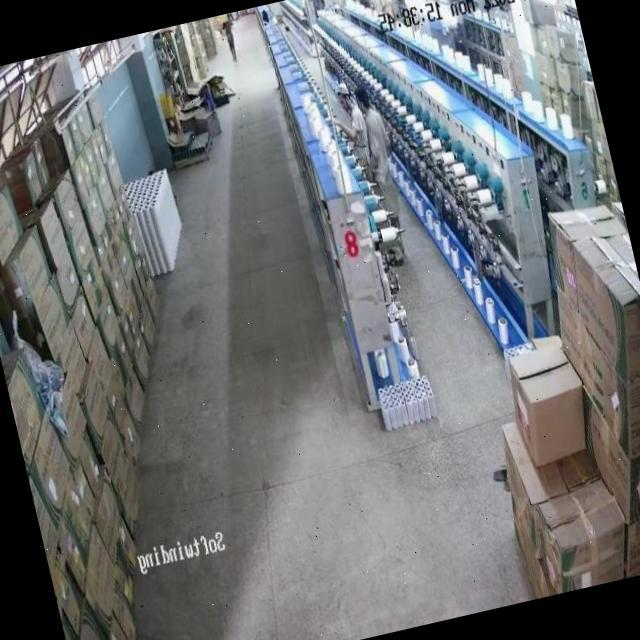person: (353, 82, 410, 236), (332, 78, 364, 152)
